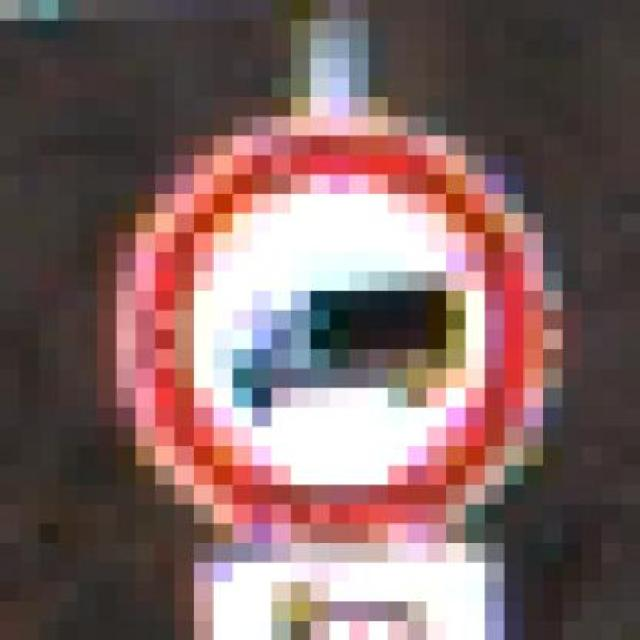Truck traffic is prohibited: (79, 97, 584, 563)
